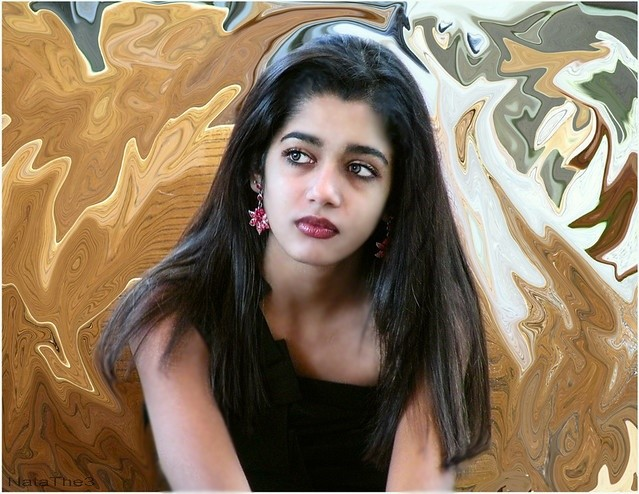face_no_mask: (241, 41, 413, 261)
